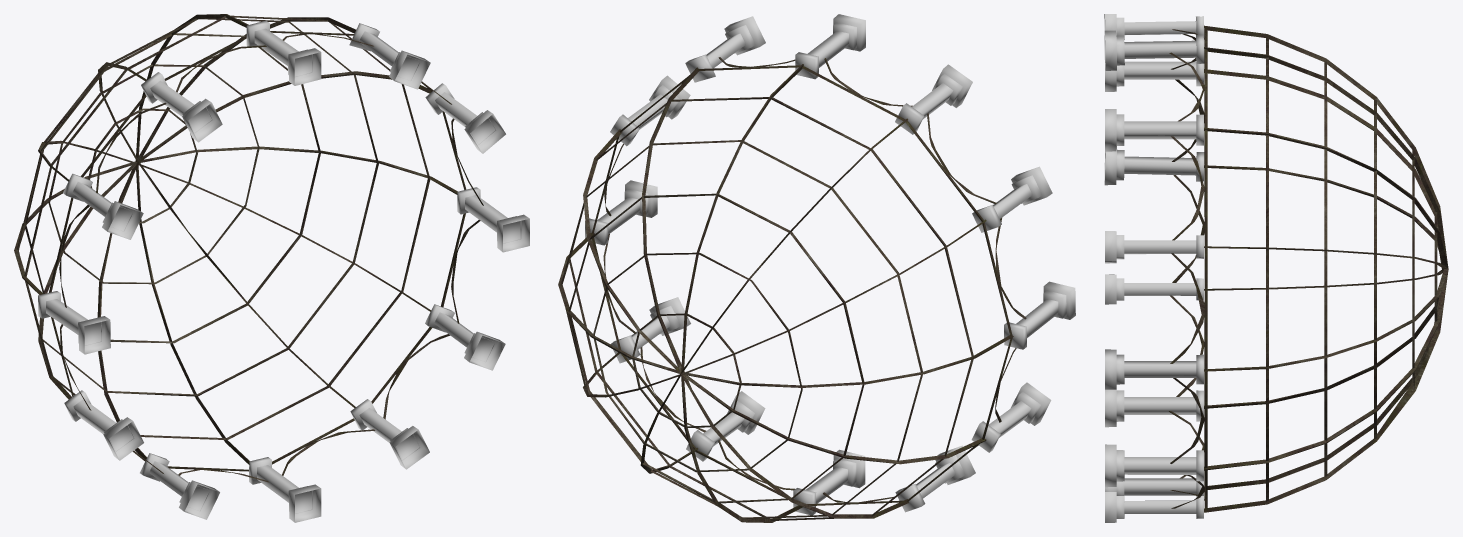
The model's file is TI_Dome_01_LOD_01.fbx.
The picture shows the model from 3 angles, left to right: view 1: azimuth 30°, elevation 25°; view 2: azimuth 150°, elevation 25°; view 3: azimuth 270°, elevation 25°; orthographic projection.
Visible parts, largest first — view 1: TI_Dome_Pillars_01_LOD_01, Ti_Dome_01_LOD_01; view 2: Ti_Dome_01_LOD_01, TI_Dome_Pillars_01_LOD_01; view 3: TI_Dome_Pillars_01_LOD_01, Ti_Dome_01_LOD_01.
Boxes of the visible parts, x1,y1,x2,y2 form: TI_Dome_Pillars_01_LOD_01: (38,20,529,522); Ti_Dome_01_LOD_01: (14,14,483,482); Ti_Dome_01_LOD_01: (558,57,1026,522); TI_Dome_Pillars_01_LOD_01: (585,14,1075,515); TI_Dome_Pillars_01_LOD_01: (1104,14,1204,522); Ti_Dome_01_LOD_01: (1169,25,1448,512).
Size of the model in its own units: 23.9 by 23.82 by 16.01.
